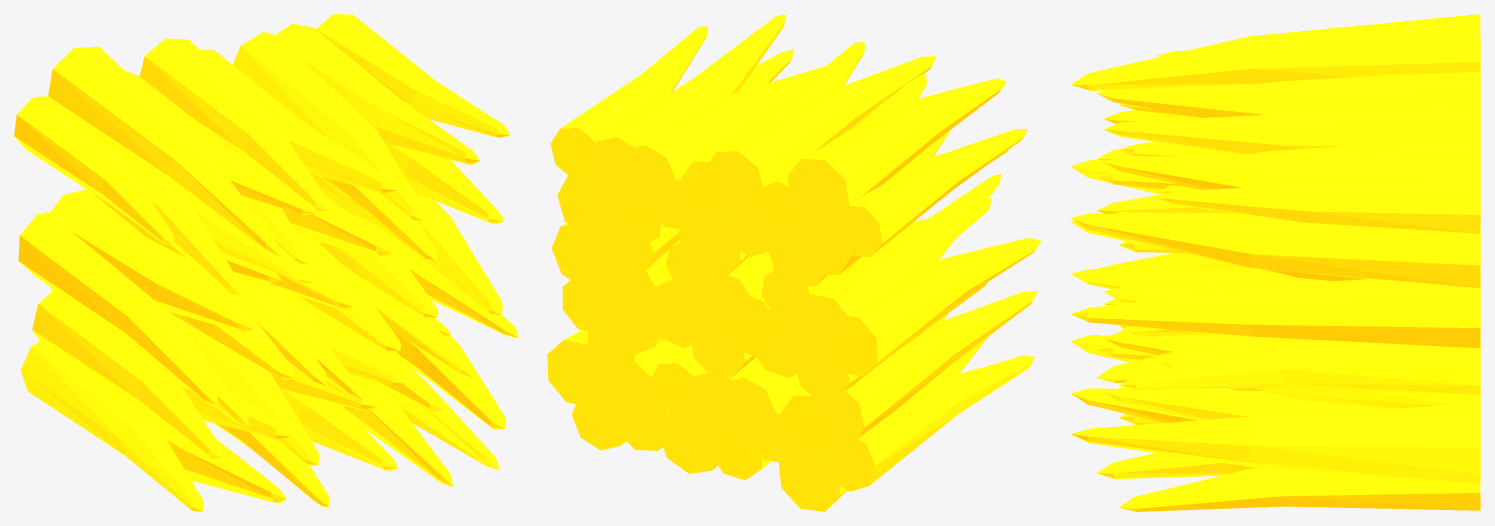
Rendered from Grass_Tile_A.glb.
The picture shows the model from 3 angles, left to right: view 1: azimuth 30°, elevation 25°; view 2: azimuth 150°, elevation 25°; view 3: azimuth 270°, elevation 25°; orthographic projection. The views are drawn at different scales.
Visible parts, largest first — view 1: Grass_Tile_A; view 2: Grass_Tile_A; view 3: Grass_Tile_A.
Part boxes in pixels (left/top/right/bottom): Grass_Tile_A: left=14, top=14, right=518, bottom=511; Grass_Tile_A: left=547, top=14, right=1041, bottom=511; Grass_Tile_A: left=1070, top=14, right=1480, bottom=511.
Size of the model in its own units: 2.27 by 2.29 by 2.21.
